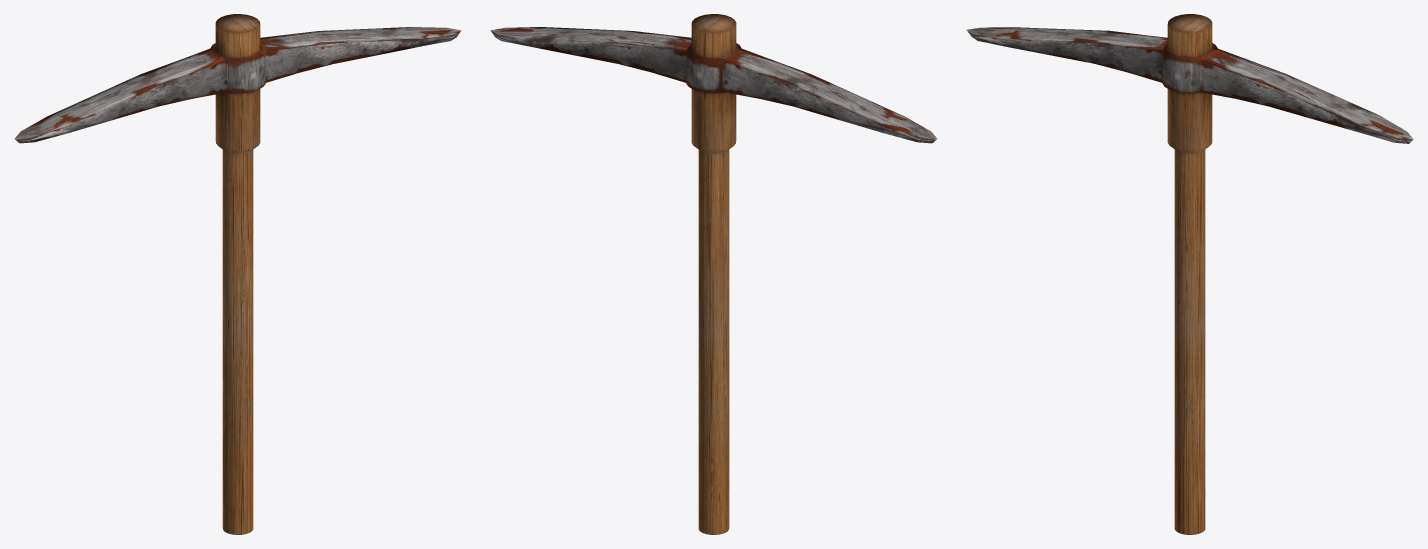
The model's file is pickaxe.glb.
3 renders of one model, left to right at view 1: azimuth 30°, elevation 25°; view 2: azimuth 150°, elevation 25°; view 3: azimuth 330°, elevation 25°, orthographic.
Parts seen in each view (by area): view 1: pCylinder1; view 2: pCylinder1; view 3: pCylinder1.
Part boxes in pixels (x1,y1,x2,y2): pCylinder1: [14, 14, 461, 534]; pCylinder1: [490, 14, 937, 534]; pCylinder1: [966, 14, 1413, 534].
Size of the model in its own units: 33.48 by 36.12 by 3.68.
Materials: 1 (1 with a texture image).
